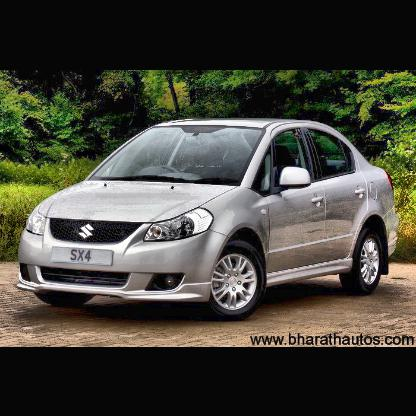Suzuki SX4 Sedan 2012: (20, 112, 399, 322)
